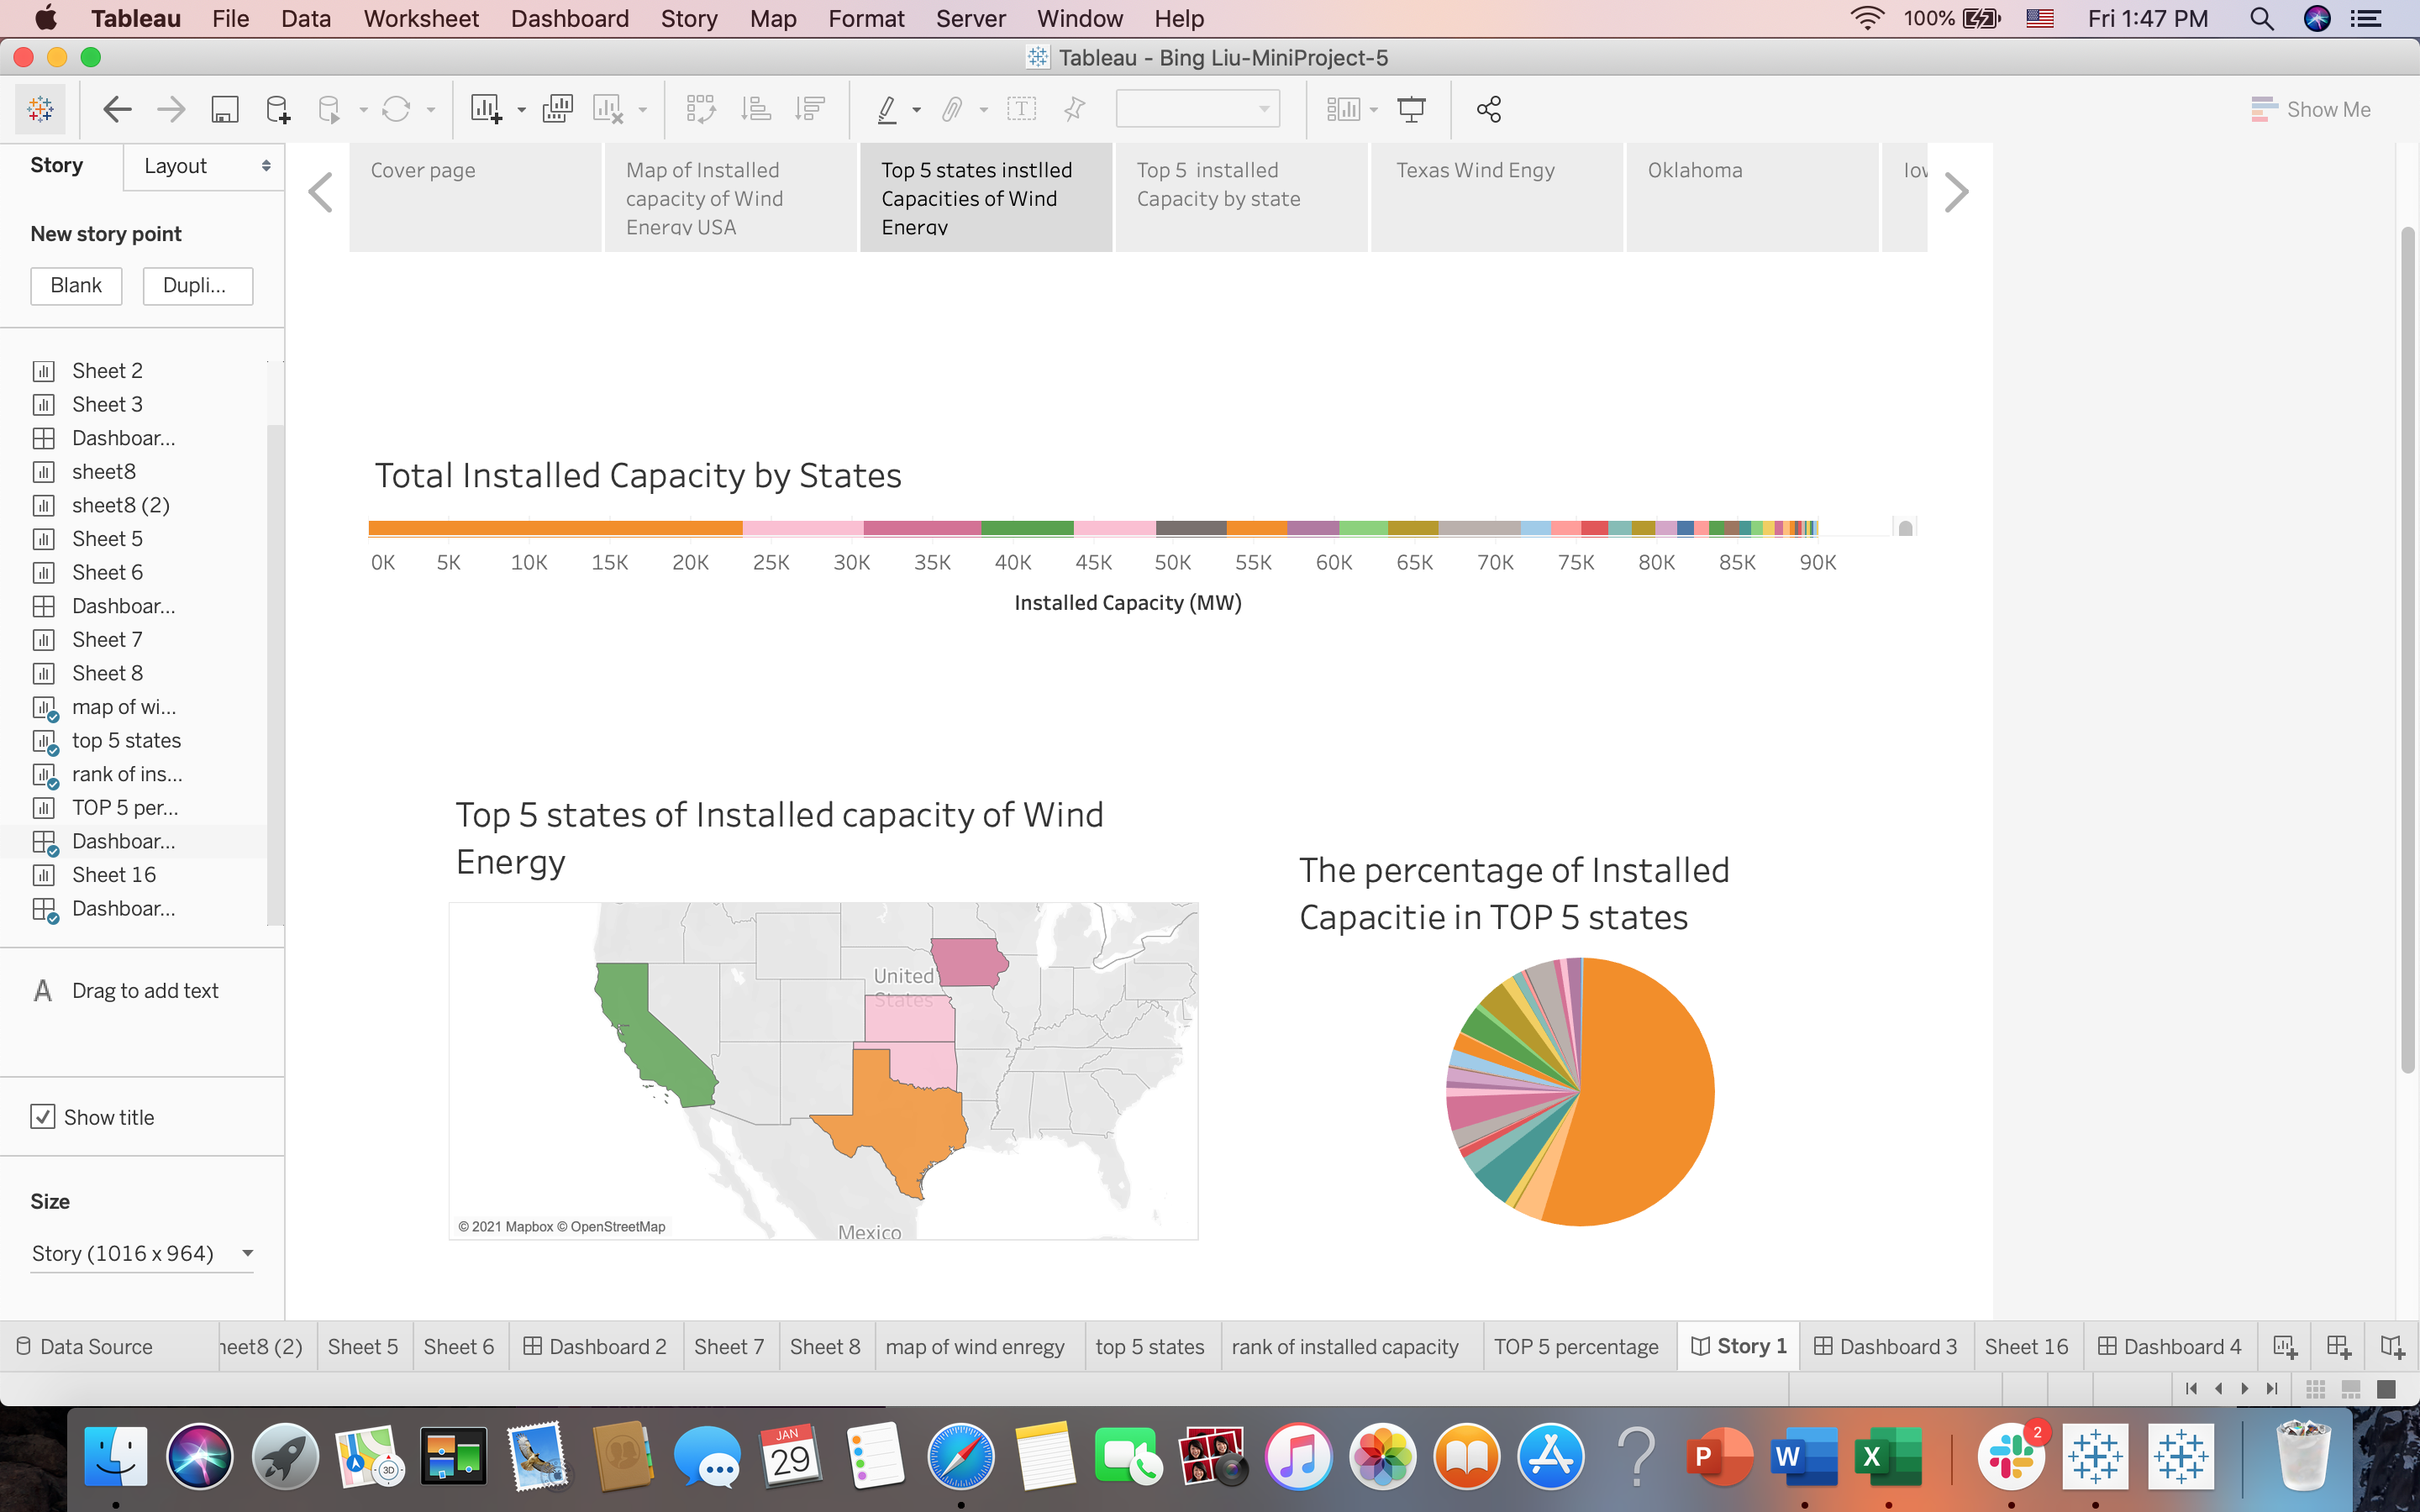

The dashboard page shown, as its layout file describes it:
{"tool":"tableau","page":{"name":"Dashboard 3","canvas":[1000,800],"ordinal":2},"visuals":[{"type":"worksheet","box":[0,0,1000,800]},{"type":"worksheet","param":"vert","box":[8,8,984,784]},{"type":"worksheet","box":[8,8,984,784]},{"type":"worksheet","title":"Sheet 16","mark":"Automatic","cols":["Installed Capacity (MW)"],"box":[41,94,922,110]},{"type":"worksheet","title":"top 5 states","mark":"Multipolygon","box":[89,296,447,273]},{"type":"worksheet","title":"TOP 5 percentage","mark":"Pie","box":[591,329,343,245]}]}

Visuals, with their boxes on the page's 1000x800 design canvas (x1, y1, x2, y2). These are canvas units, not pixel positions in the 2420x1512 screenshot, which may show the page scaled, cropped or inside an application window:
worksheet: x1=0, y1=0, x2=1000, y2=800
worksheet: x1=8, y1=8, x2=992, y2=792
worksheet: x1=8, y1=8, x2=992, y2=792
"Sheet 16" worksheet: x1=41, y1=94, x2=963, y2=204
"top 5 states" worksheet (Multipolygon marks): x1=89, y1=296, x2=536, y2=569
"TOP 5 percentage" worksheet (Pie marks): x1=591, y1=329, x2=934, y2=574
